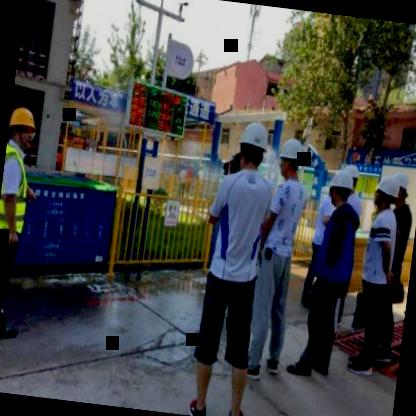helmet: (236, 116, 270, 172), (6, 100, 40, 152), (275, 132, 307, 182), (325, 166, 356, 211), (369, 172, 402, 212), (390, 170, 414, 206)
